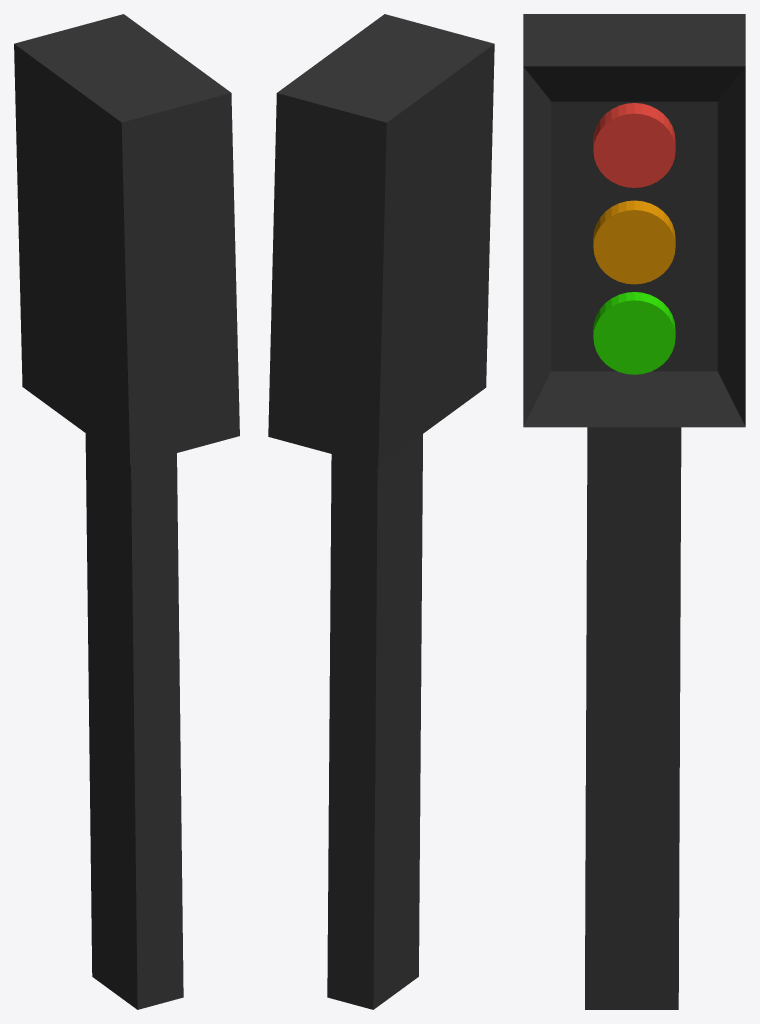
The model's file is trafficlight.fbx.
3 renders of one model, left to right at view 1: azimuth 30°, elevation 25°; view 2: azimuth 150°, elevation 25°; view 3: azimuth 270°, elevation 25°, orthographic. The views are drawn at different scales.
Parts seen in each view (by area): view 1: body; view 2: body; view 3: body, red, yellow, green.
Part boxes in pixels (x1=…): body: x1=14, y1=14, x2=239, y2=1009; body: x1=268, y1=14, x2=494, y2=1009; body: x1=523, y1=14, x2=745, y2=1009; red: x1=593, y1=103, x2=675, y2=187; yellow: x1=593, y1=200, x2=675, y2=284; green: x1=593, y1=292, x2=675, y2=374.
Size of the model in its own units: 29.91 by 223 by 47.17.
